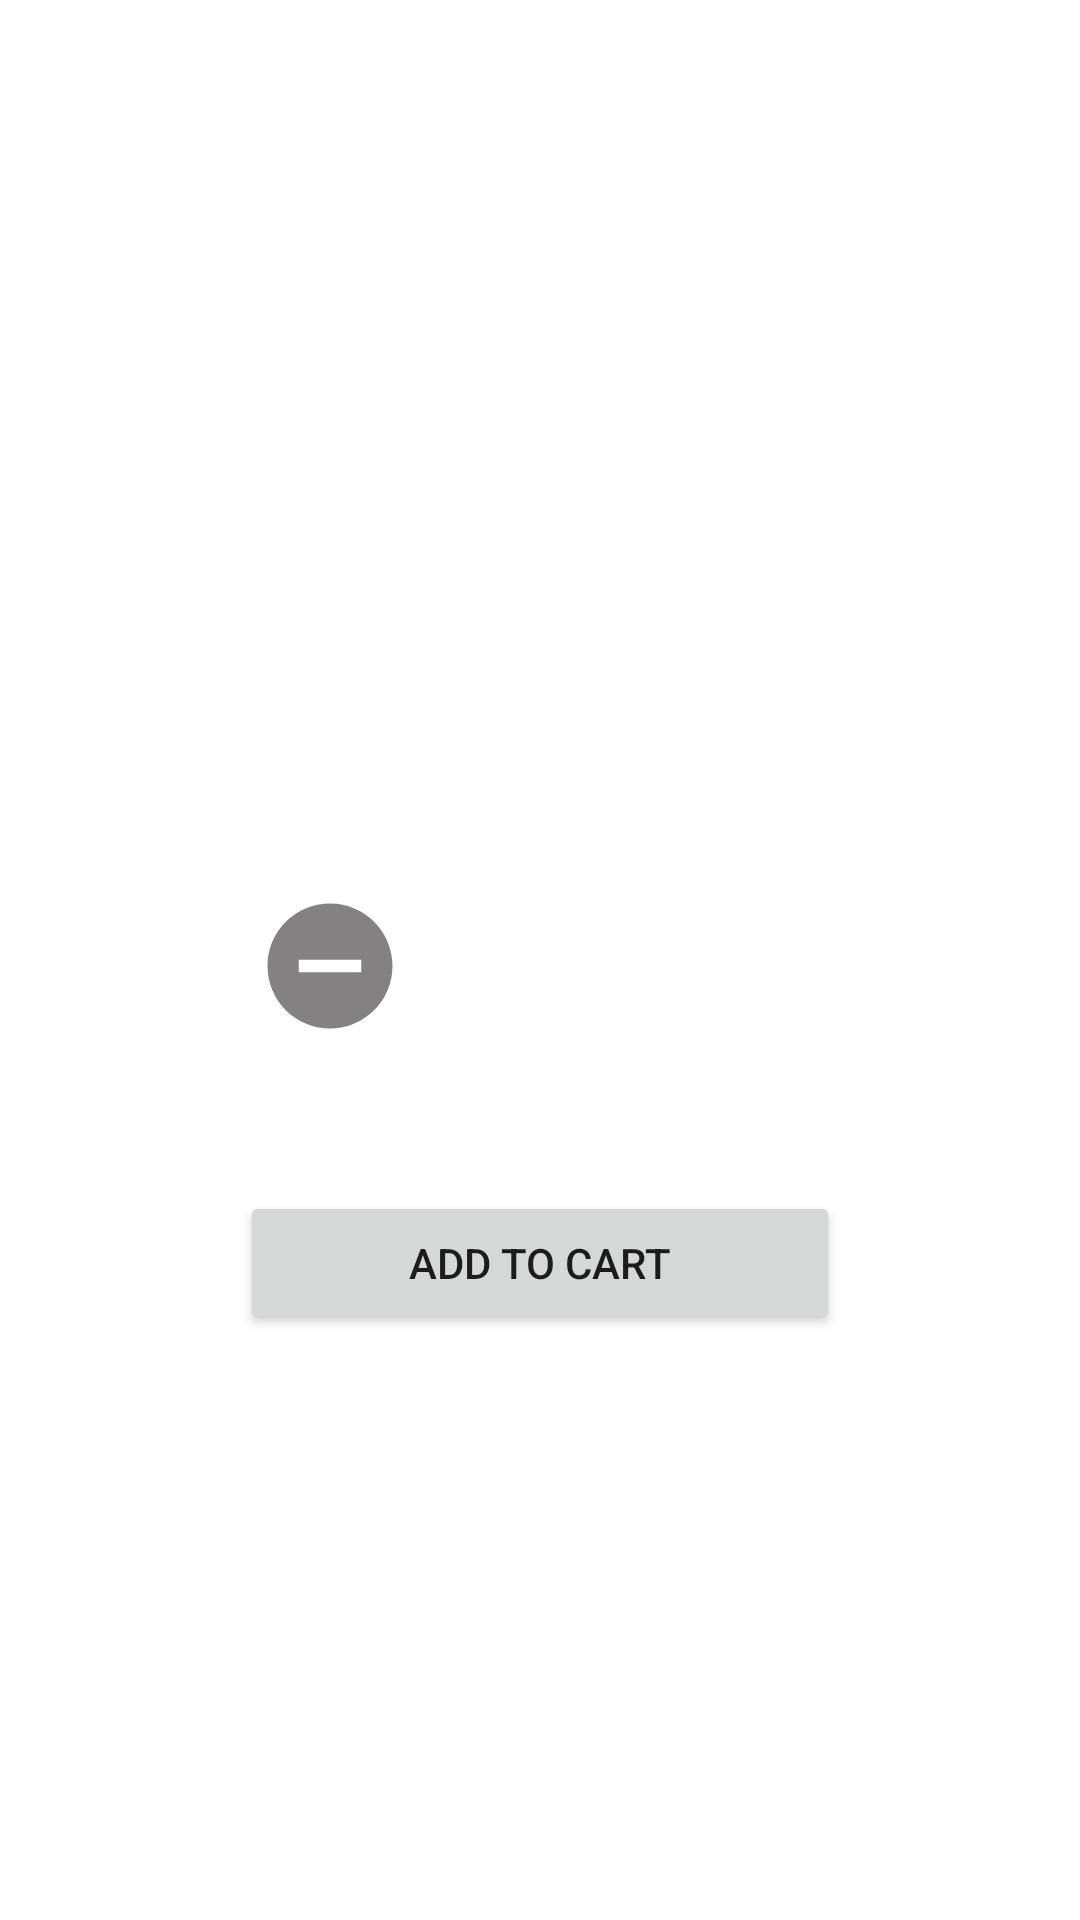

Locate icon controls on the screen. Image size 1080w x 1920h, boxes as bbox=[x1, y1, x2, y2].
remove: bbox=[267, 903, 393, 1029]
